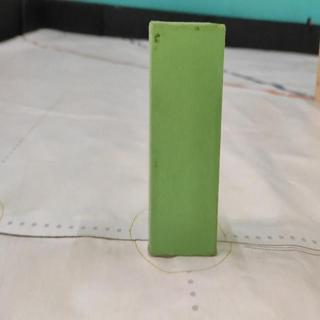greenbox: (148, 22, 220, 257)
